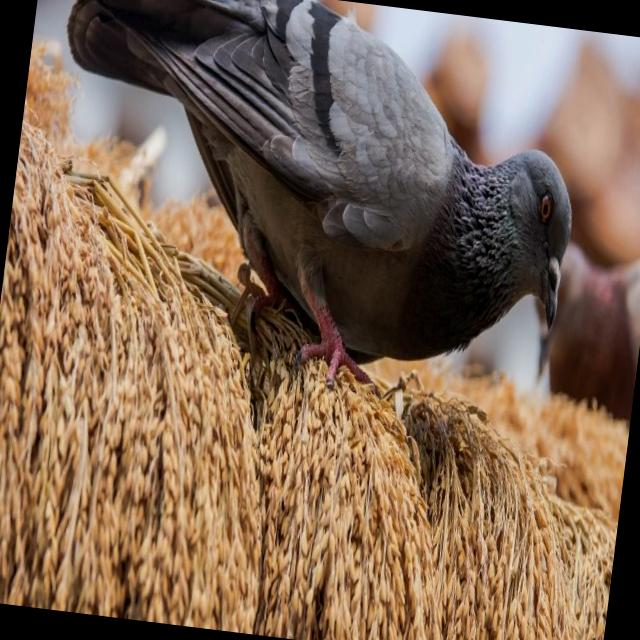bird: (25, 0, 601, 410)
